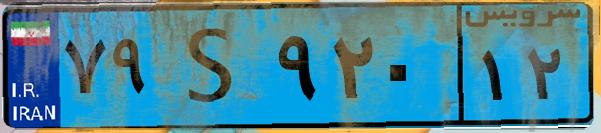0: (385, 28, 445, 110)
1: (475, 38, 525, 113)
2: (330, 28, 385, 110), (525, 38, 570, 115)
7: (57, 26, 110, 100)
9: (270, 28, 330, 110), (110, 28, 158, 98)
S: (158, 12, 270, 120)
